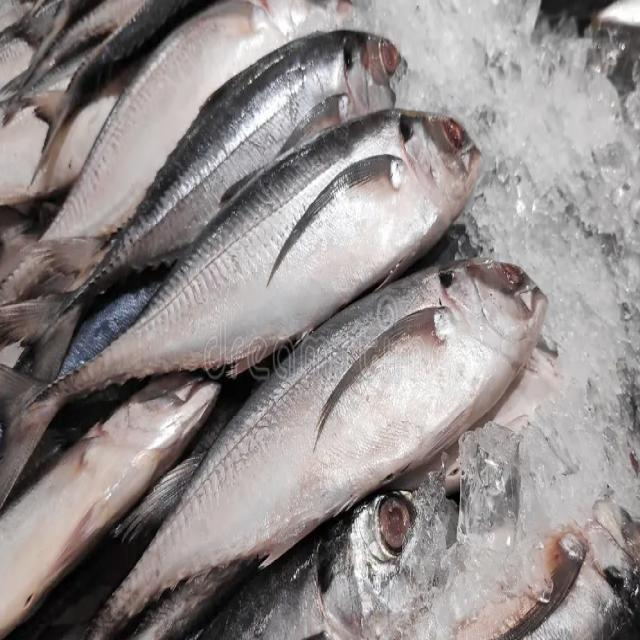Mackerel: (40, 260, 550, 640), (0, 109, 478, 506)
